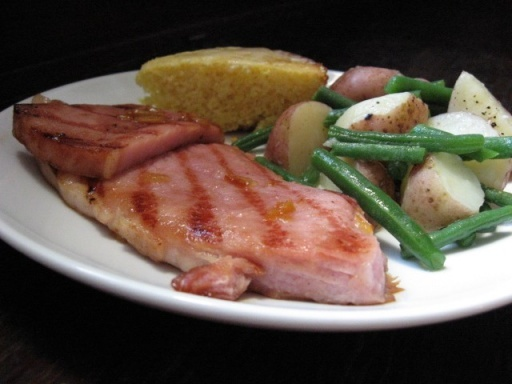background: (9, 27, 409, 182)
